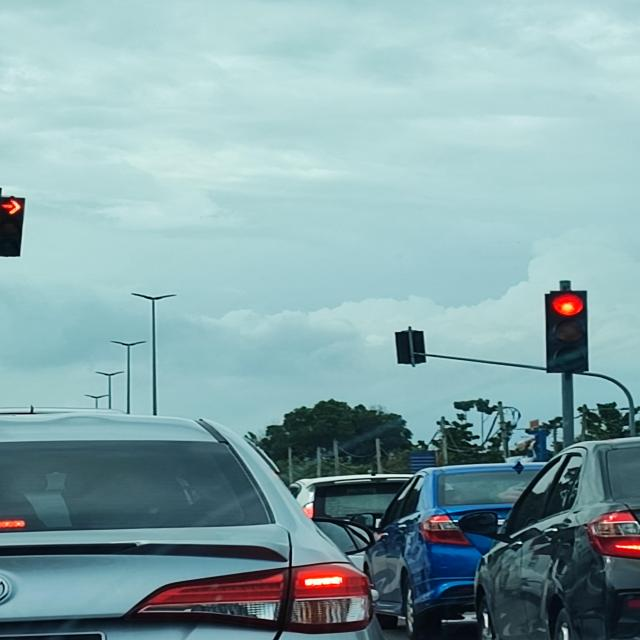car: (0, 408, 397, 640), (459, 431, 640, 640), (365, 461, 548, 639)
traffic light: (545, 290, 589, 374), (0, 195, 25, 258), (395, 329, 426, 367)
